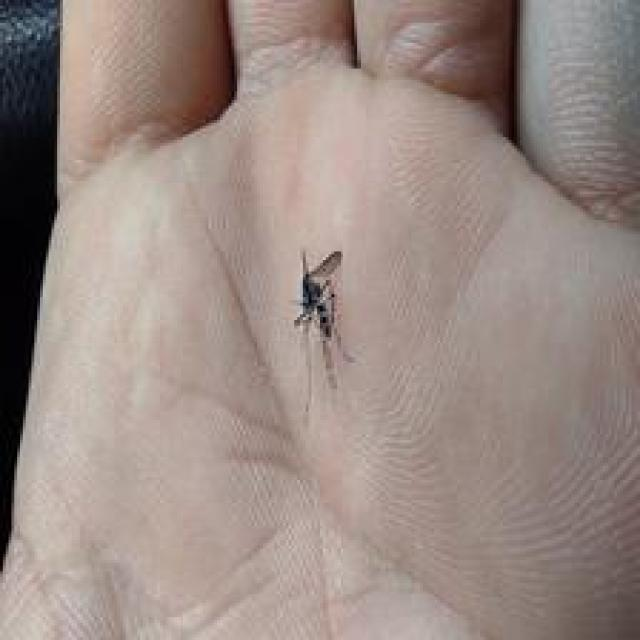Aedes albopictus: (290, 248, 356, 392)
